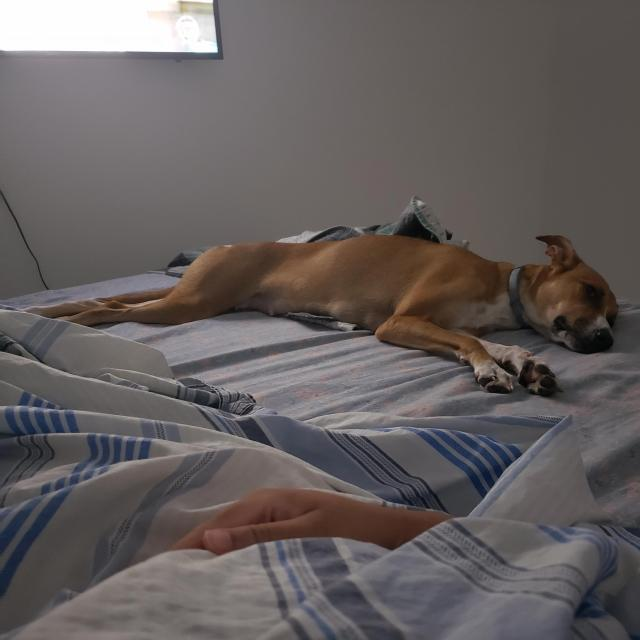laying down: (24, 222, 628, 402)
